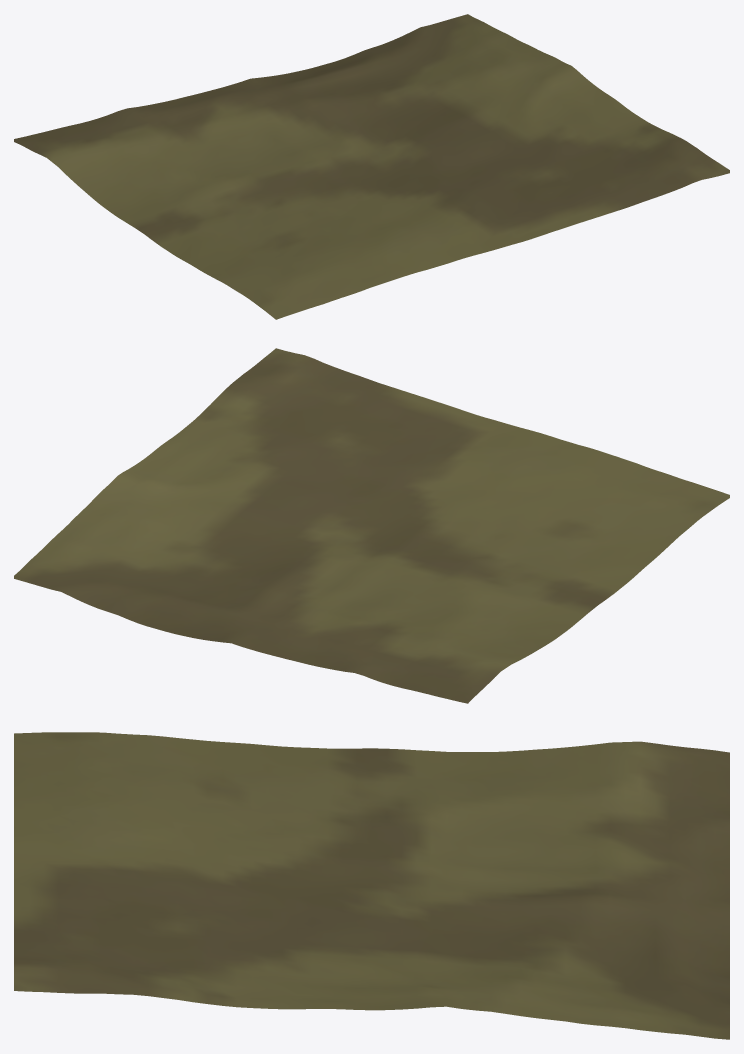
Rendered from land_m_09_01.glb.
The picture shows the model from 3 angles, top to bottom: view 1: azimuth 30°, elevation 25°; view 2: azimuth 150°, elevation 25°; view 3: azimuth 270°, elevation 25°; orthographic projection. The views are drawn at different scales.
Visible parts, largest first — view 1: land_m_09_01; view 2: land_m_09_01; view 3: land_m_09_01.
Boxes of the visible parts, bbox=[...] form: land_m_09_01: bbox=[14, 14, 729, 319]; land_m_09_01: bbox=[14, 348, 729, 703]; land_m_09_01: bbox=[14, 732, 729, 1039].
Bounding box in the file's own units: 960 × 111 × 960.
